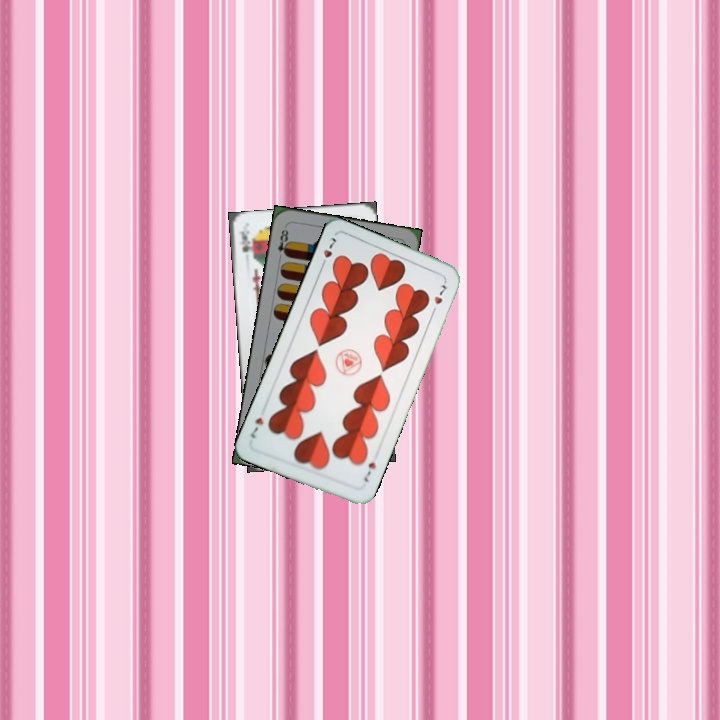E8: (274, 223, 292, 263)
H7: (316, 233, 339, 271), (360, 457, 379, 485)
SK: (235, 226, 254, 255)
